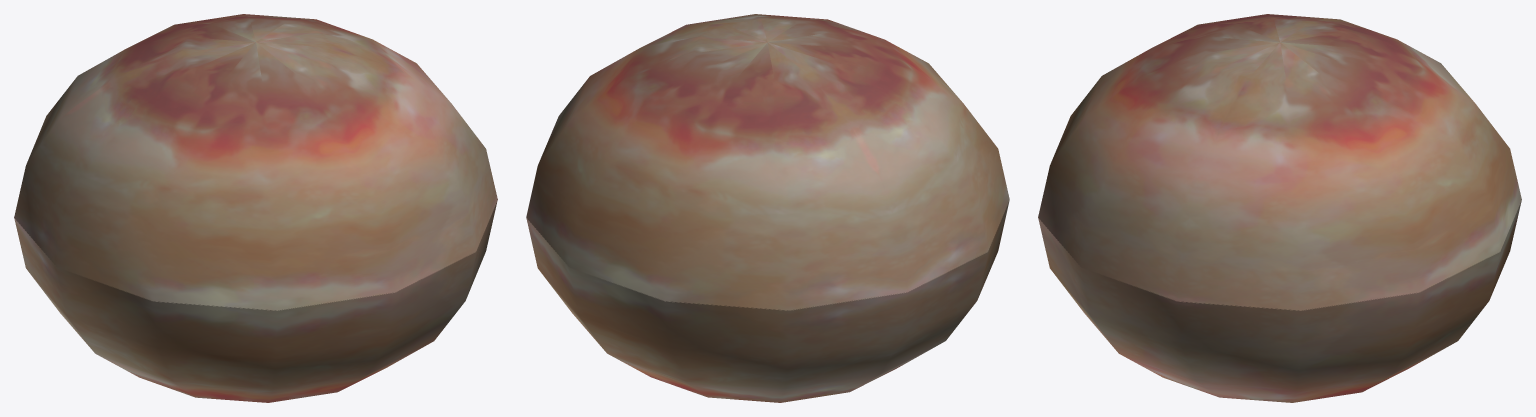
File: env_bespin_docks_pre.glb
3 views of the same model, side by side, from view 1: azimuth 30°, elevation 25°; view 2: azimuth 150°, elevation 25°; view 3: azimuth 270°, elevation 25° (orthographic).
Parts seen in each view (by area): view 1: skybox_01_mesh (×2); view 2: skybox_01_mesh (×2); view 3: skybox_01_mesh (×2).
Part boxes in pixels (box(x1,y1,x2,y2)): skybox_01_mesh (×2): box(14, 14, 497, 402); skybox_01_mesh (×2): box(526, 14, 1009, 402); skybox_01_mesh (×2): box(1038, 14, 1521, 402).
Size of the model in its own units: 577 by 437 by 577.
16 materials, 16 textured.
